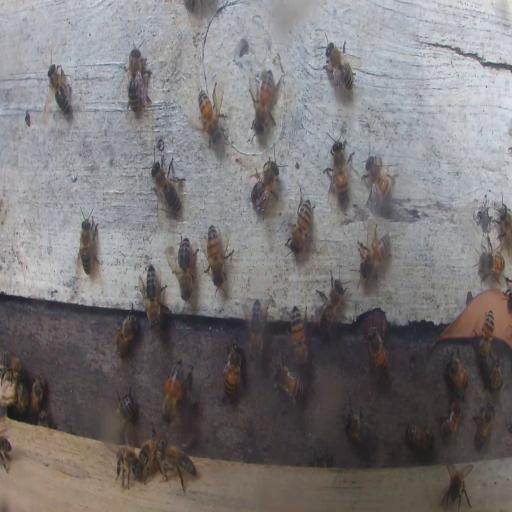nonpollenbee: (151, 152, 186, 214), (316, 275, 350, 336), (357, 224, 390, 284), (204, 223, 234, 288), (123, 46, 151, 115), (364, 152, 397, 208), (323, 40, 356, 96), (249, 68, 277, 133), (196, 83, 224, 147), (138, 264, 165, 330), (250, 157, 280, 216), (161, 442, 196, 492), (441, 460, 473, 511), (328, 133, 350, 204), (288, 190, 313, 252), (344, 407, 378, 447), (47, 64, 72, 116), (274, 363, 304, 404), (175, 234, 194, 298), (222, 342, 243, 398), (289, 305, 307, 366), (248, 296, 264, 364), (80, 212, 97, 276), (114, 311, 138, 356), (114, 445, 138, 490), (472, 402, 494, 451), (445, 352, 470, 394), (367, 324, 388, 374), (438, 395, 462, 438), (404, 423, 436, 452), (478, 247, 506, 277), (137, 438, 158, 477), (480, 308, 494, 360), (496, 203, 512, 248), (0, 351, 22, 383), (117, 388, 135, 426), (31, 375, 45, 415), (0, 432, 12, 472), (14, 381, 28, 412), (489, 358, 501, 390), (312, 449, 328, 466), (37, 407, 49, 424)
pollenbee: (159, 359, 187, 425)
